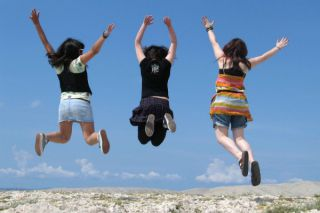Person: (198, 13, 290, 190), (27, 6, 118, 159), (132, 15, 180, 148)
